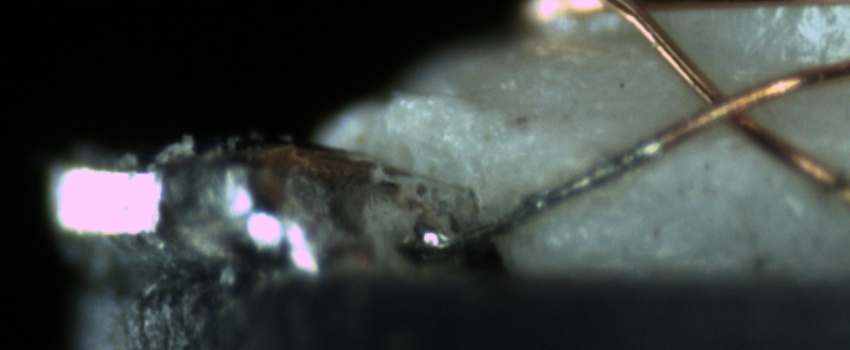CL: (683, 71, 774, 138)
TS: (447, 135, 662, 247)
TTCW: (458, 109, 704, 247)
